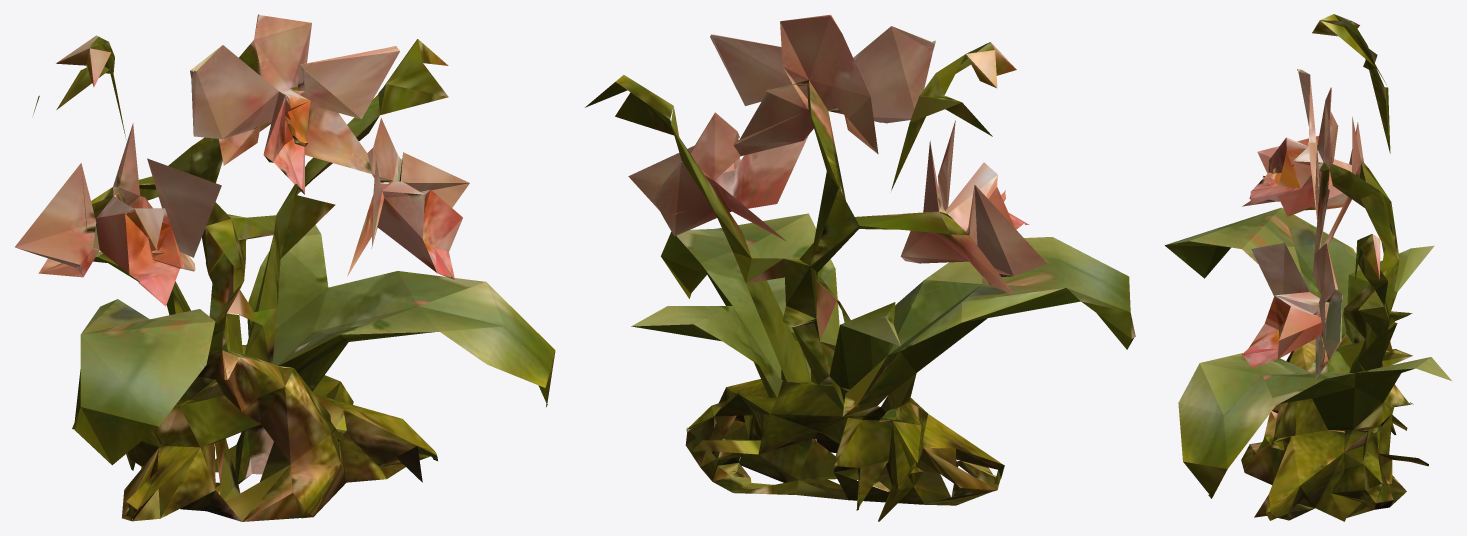
Rendered from fairy_giant_orchid_1117.glb.
3 renders of one model, left to right at view 1: azimuth 30°, elevation 25°; view 2: azimuth 150°, elevation 25°; view 3: azimuth 270°, elevation 25°, orthographic. The views are drawn at different scales.
Parts seen in each view (by area): view 1: world; view 2: world; view 3: world.
Boxes of the visible parts, bbox=[...] form: world: bbox=[15, 14, 555, 521]; world: bbox=[585, 14, 1135, 521]; world: bbox=[1165, 14, 1451, 521].
Size of the model in its own units: 1.06 by 1 by 0.6605.
Materials: 1 (1 with a texture image).
